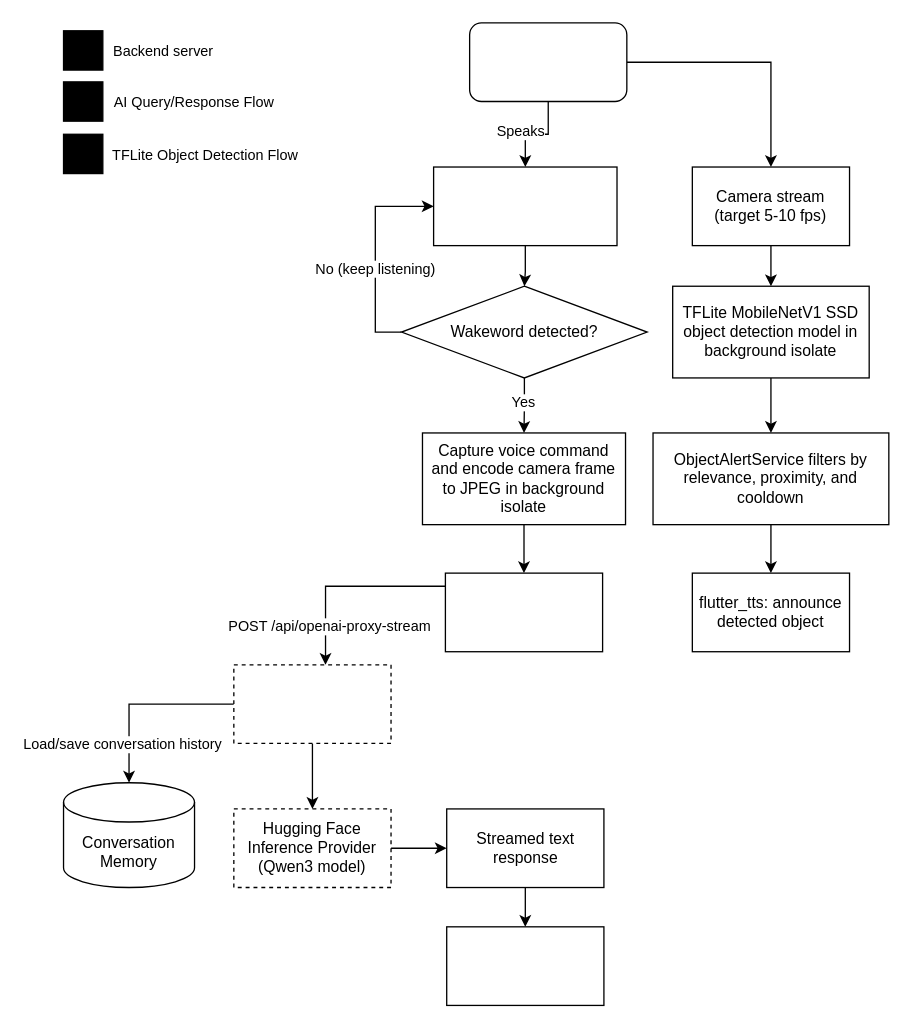
The diagram is 912 pixels wide and 1028 high, and some of its shapes have lost their labels. The centre of each missing label's shape, as x and y in pixels:
"BackendClient" goes at point 523,612.
"flutter_tts: speak response aloud" goes at point 524,965.
"Node.js Express Server" goes at point 312,703.
"SpeechRecognition listener" goes at point 524,206.
"User" goes at point 547,62.
